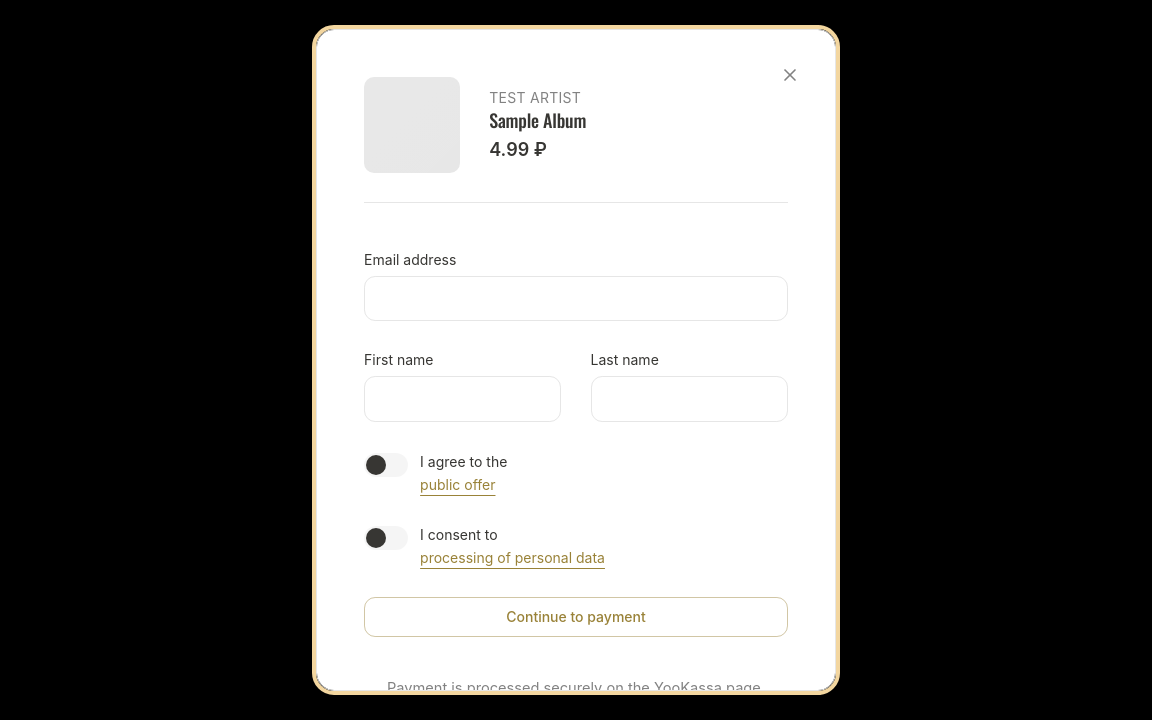
it: AlbumCheckoutModal › surfaces createPayment error and stays on form
Type "fan@example.com" into the field labelled "Email address".
click(576, 298); type("fan@example.com")  # box [364,276,788,321]
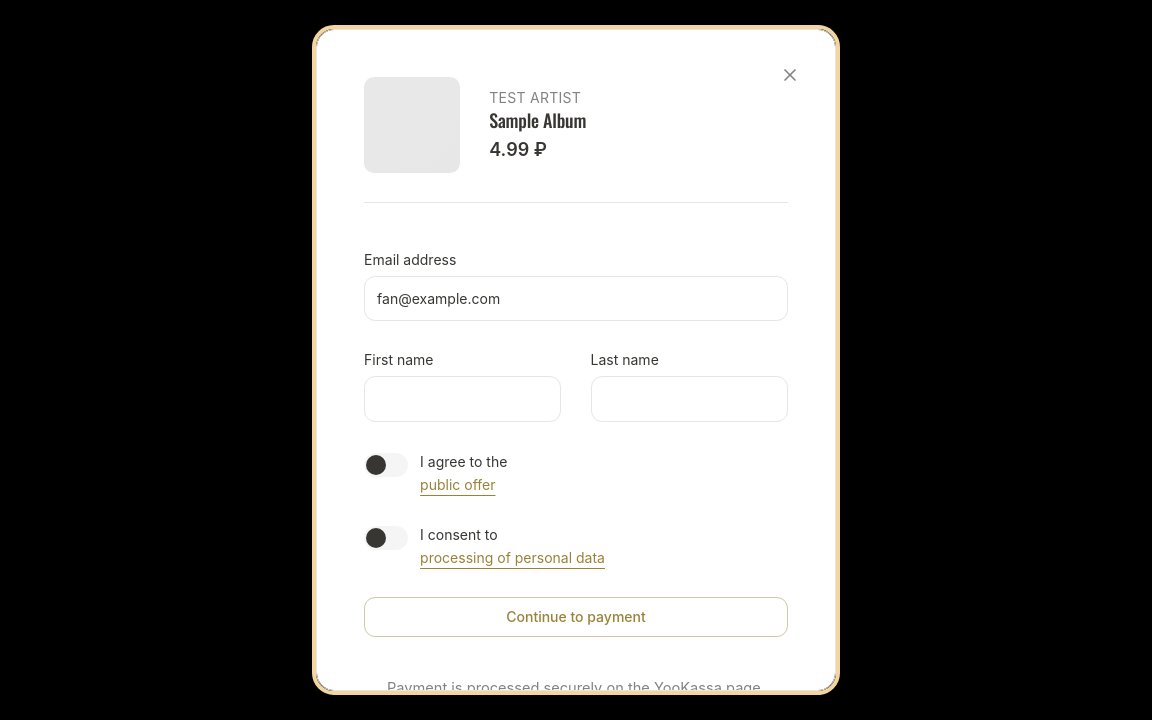
Type "Pat" into the field labelled "First name".
click(463, 399); type("Pat")  # box [364,376,561,422]
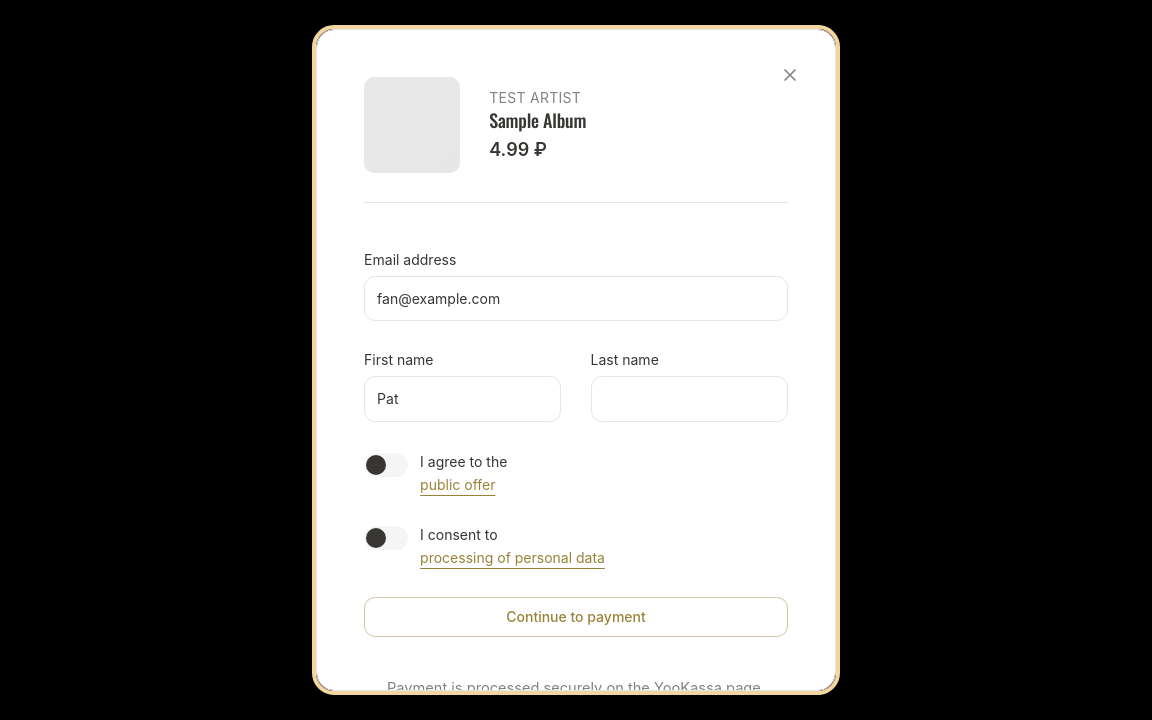
Type "Doe" into the field labelled "Last name".
click(689, 399); type("Doe")  # box [590,376,788,422]
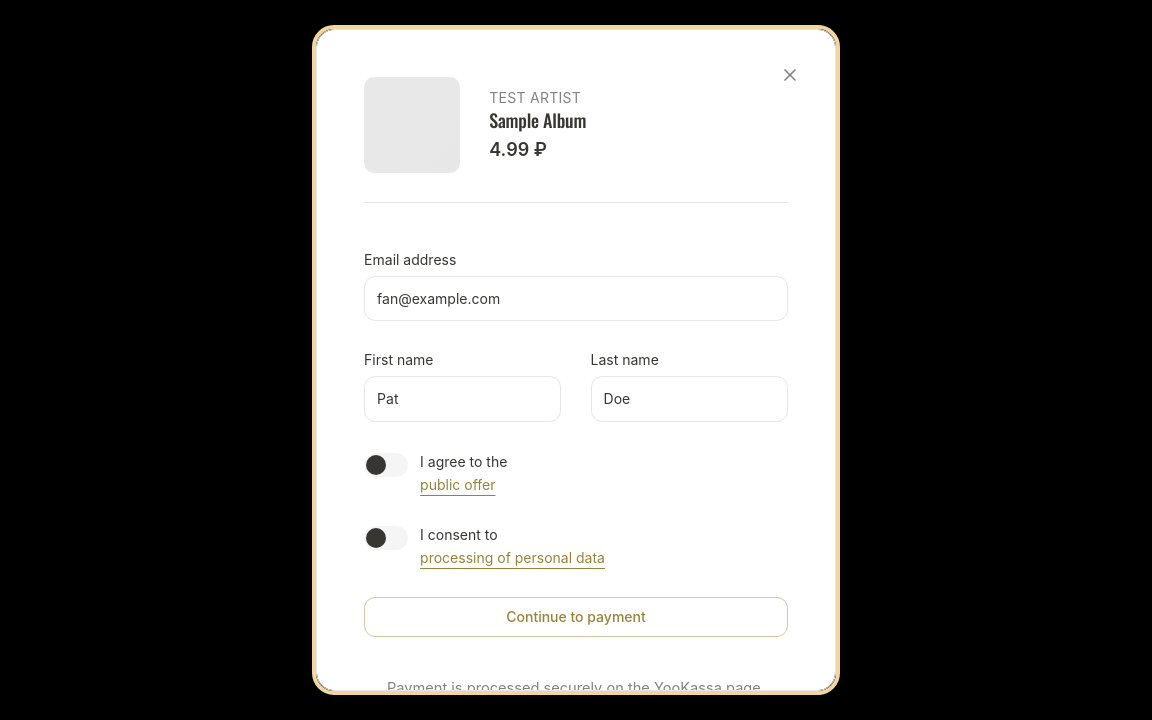
Click the checkbox labelled "I agree to the public offer".
click(386, 465)  # box [364,453,408,477]
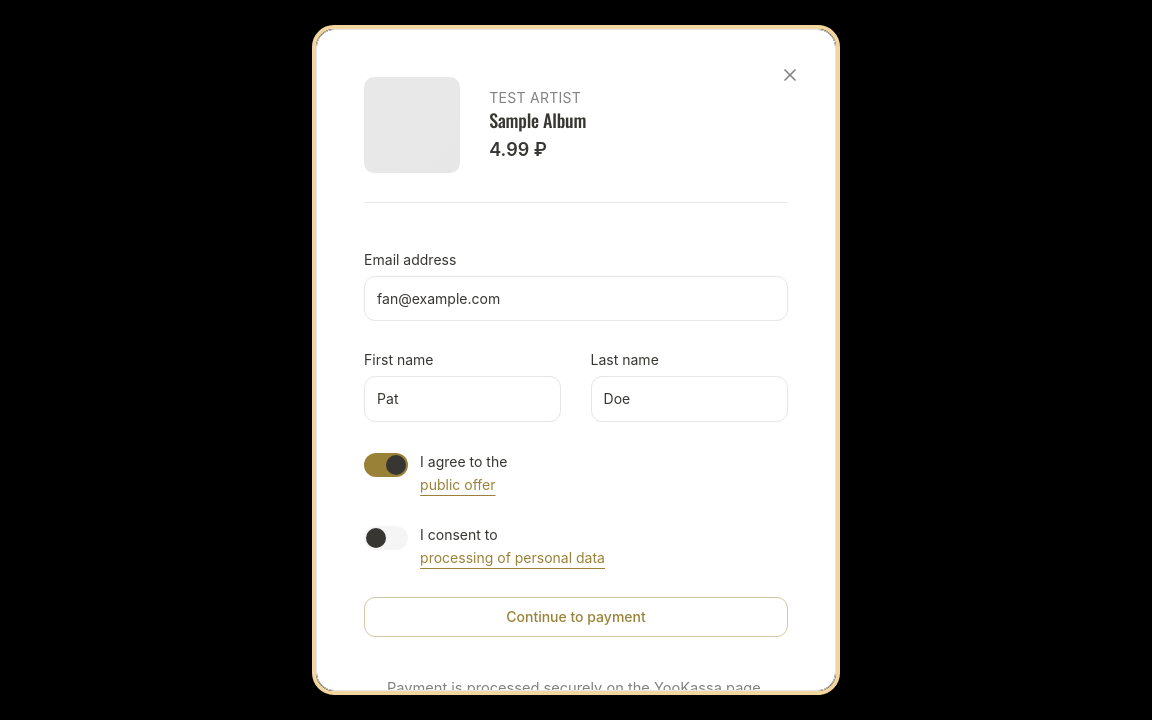
Click the checkbox labelled "I consent to processing of personal data".
click(386, 538)  # box [364,526,408,550]
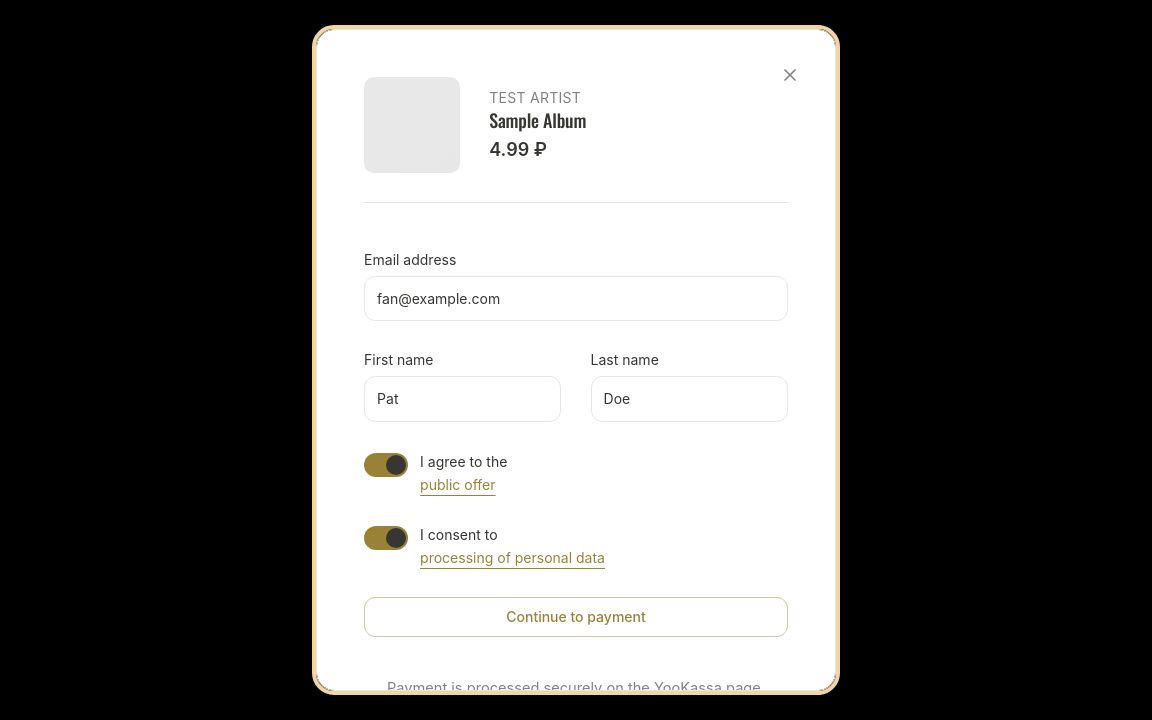
Click the button "Continue to payment".
click(576, 617)  # box [364,597,788,637]
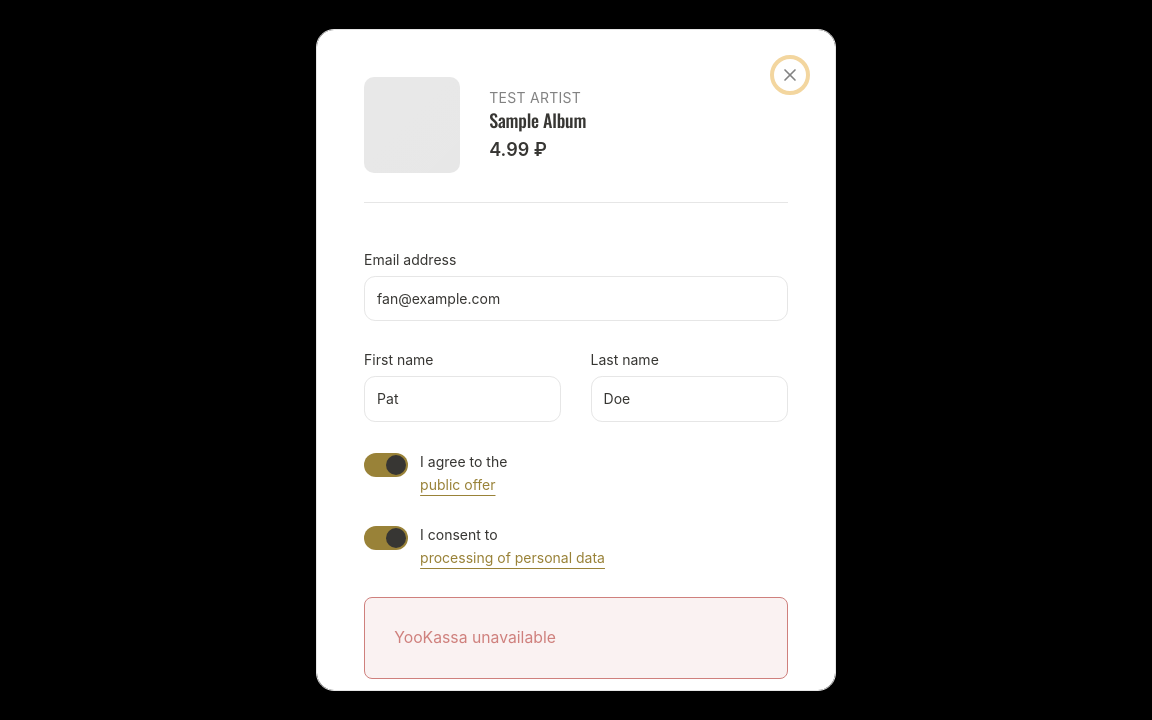
Now the message reads "YooKassa unavailable", box [394,628,556,647]
